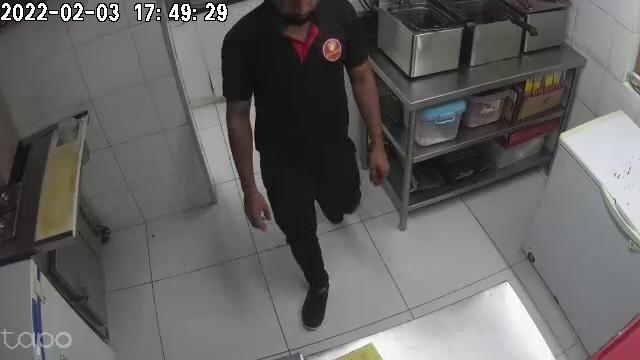no_gloves: (241, 180, 271, 227), (369, 139, 388, 182)
